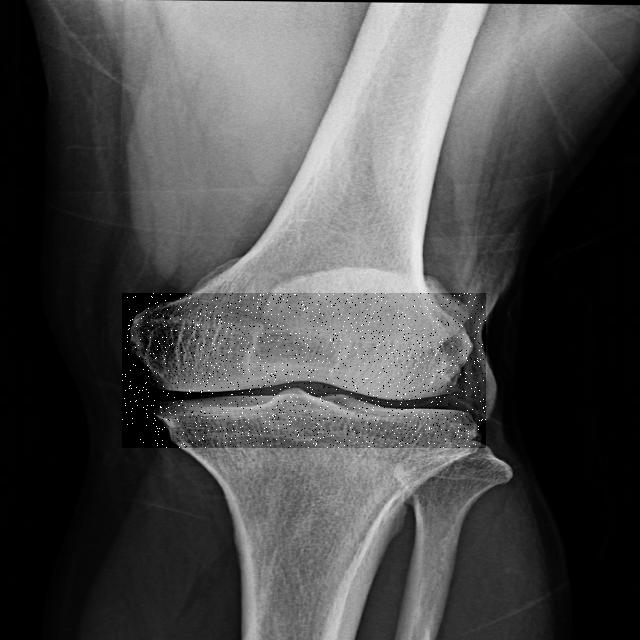osteo: (122, 293, 486, 448)
